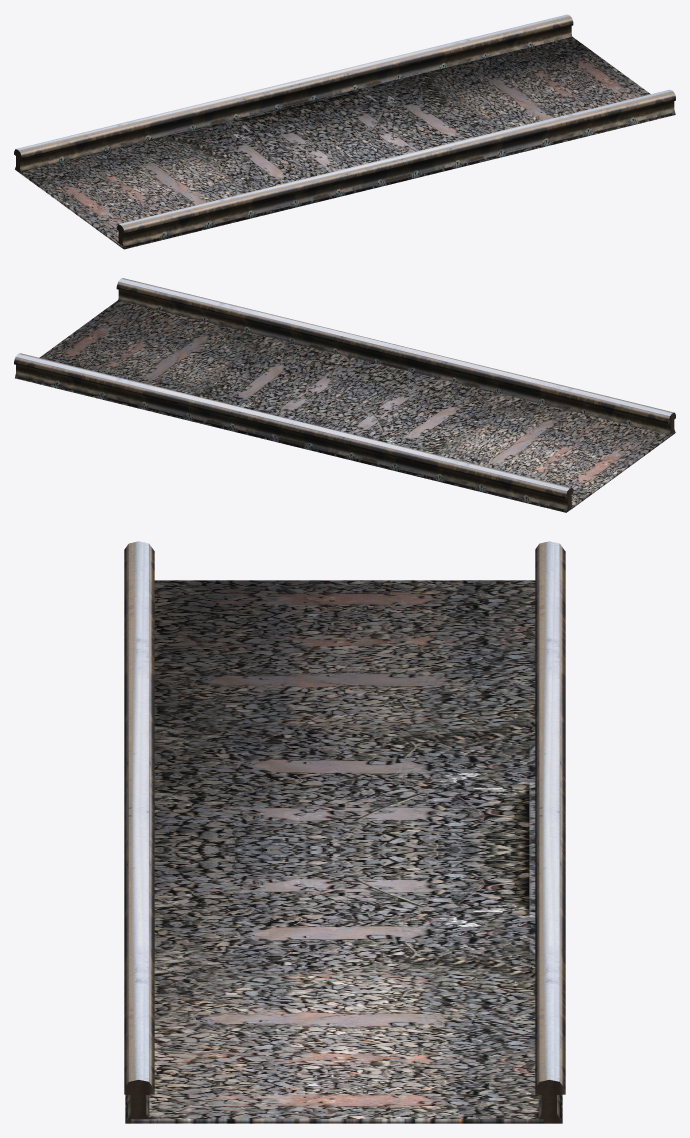
Rendered from traintrack.obj.
3 renders of one model, top to bottom at view 1: azimuth 30°, elevation 25°; view 2: azimuth 150°, elevation 25°; view 3: azimuth 270°, elevation 25°, orthographic. The views are drawn at different scales.
Visible parts, largest first — view 1: traintrack; view 2: traintrack; view 3: traintrack.
Part boxes in pixels (left/top/right/bottom): traintrack: left=14, top=14, right=675, bottom=249; traintrack: left=14, top=278, right=675, bottom=512; traintrack: left=124, top=541, right=565, bottom=1123.
Size of the model in its own units: 260 by 9.88 by 89.79.
Materials: 1 (1 with a texture image).
